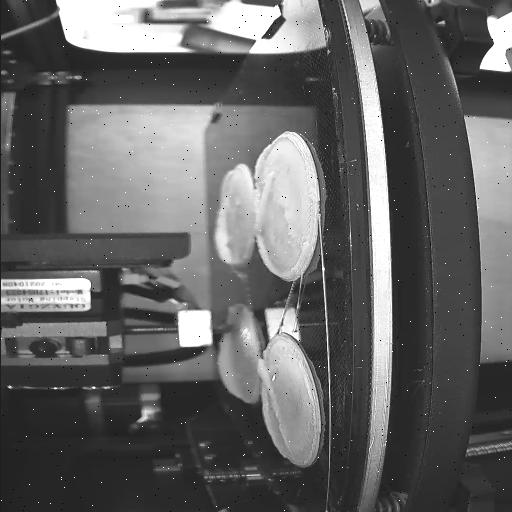over_extrusion: (256, 360, 292, 450), (254, 234, 308, 278), (252, 144, 276, 232), (214, 207, 240, 267), (218, 336, 240, 398), (218, 168, 238, 202)
